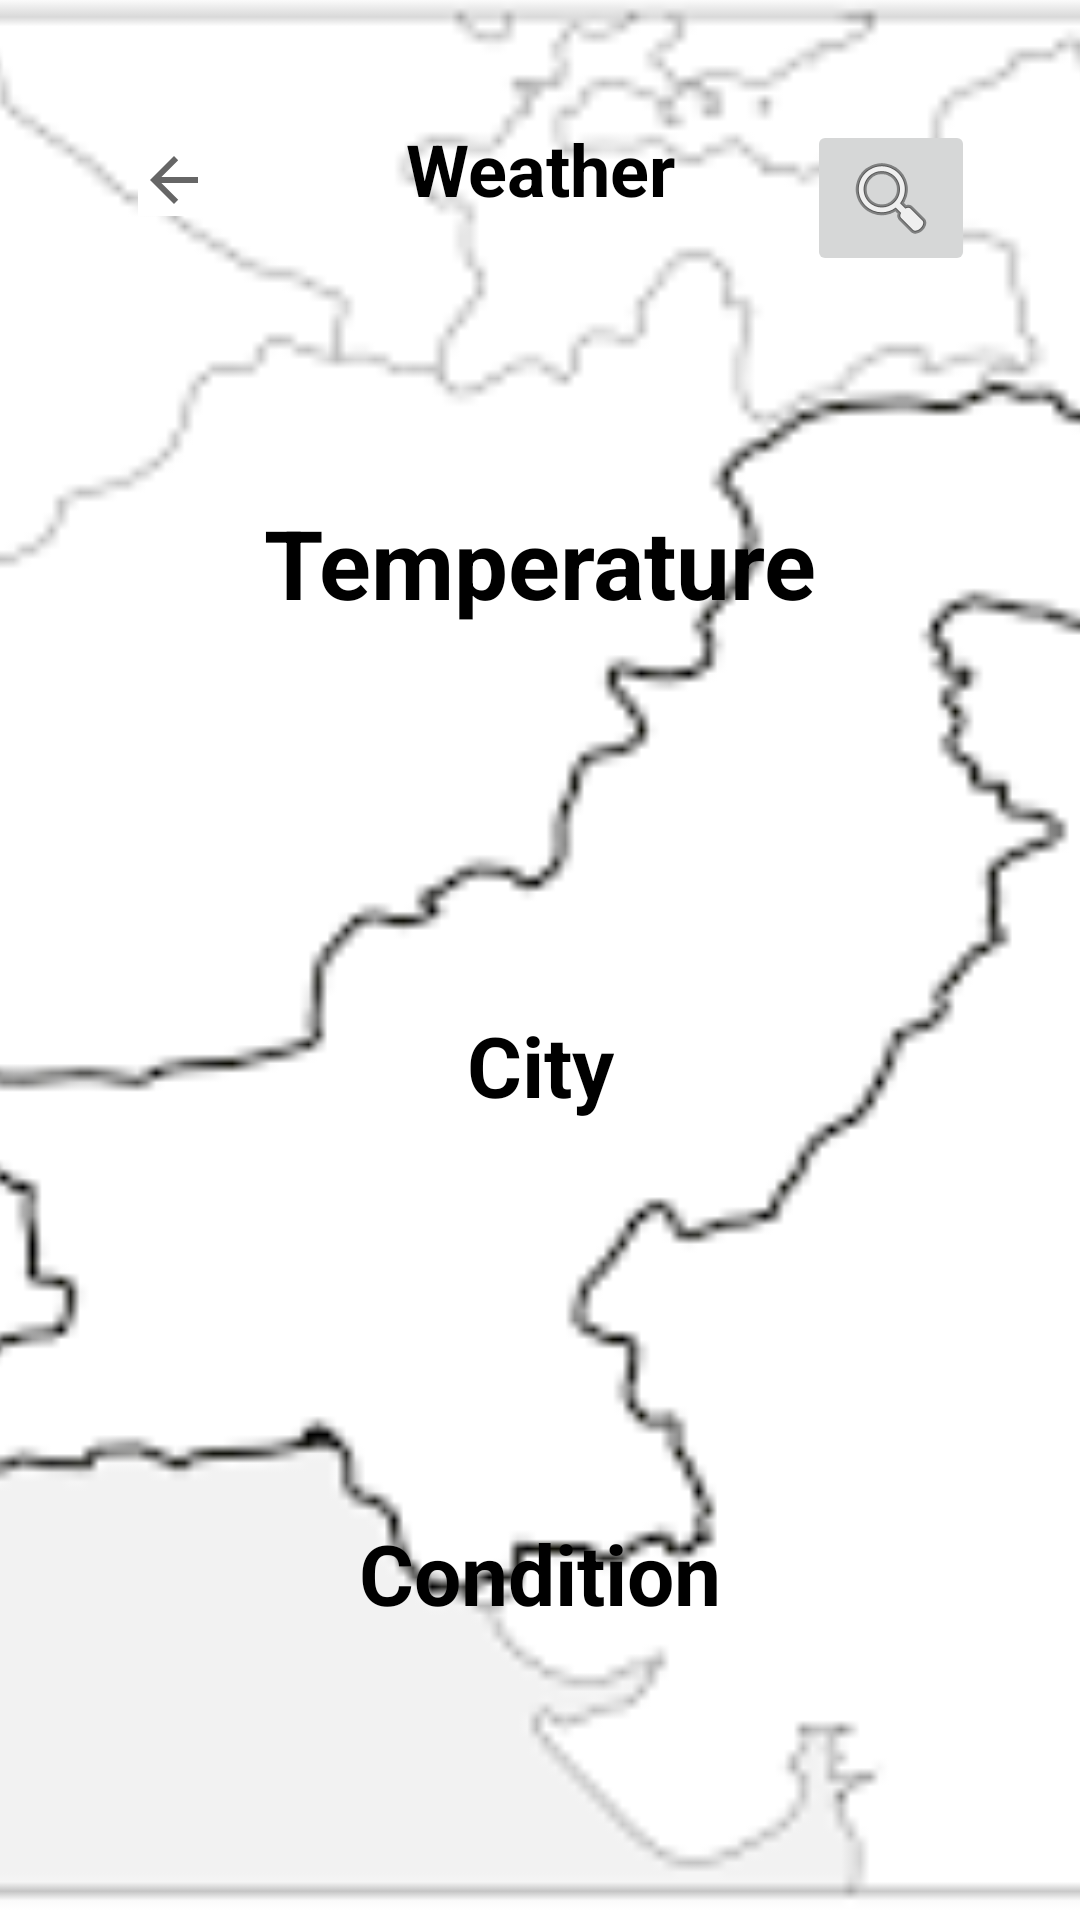

Named icons in this screenshot (1080px x 1920px) and their bounding boxes, {"x1": x1, "y1": y1, "x2": x2, "y2": y2}:
back: {"x1": 150, "y1": 156, "x2": 198, "y2": 204}
search: {"x1": 807, "y1": 120, "x2": 975, "y2": 258}
